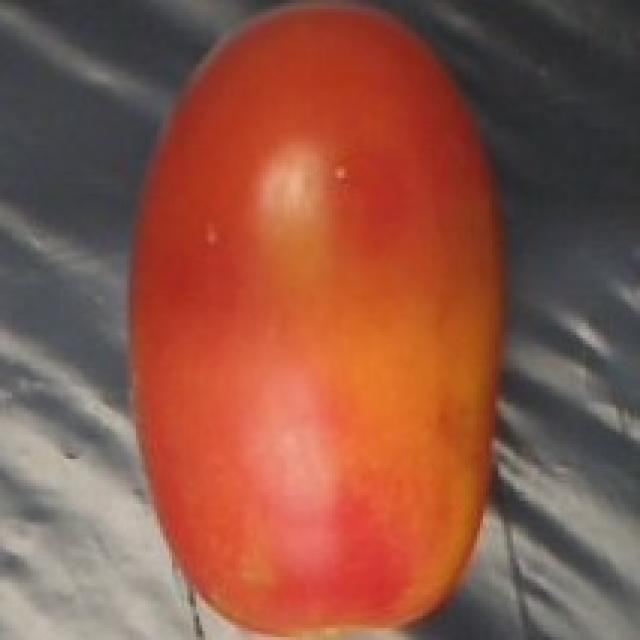ripe tomato: (106, 0, 525, 640)
